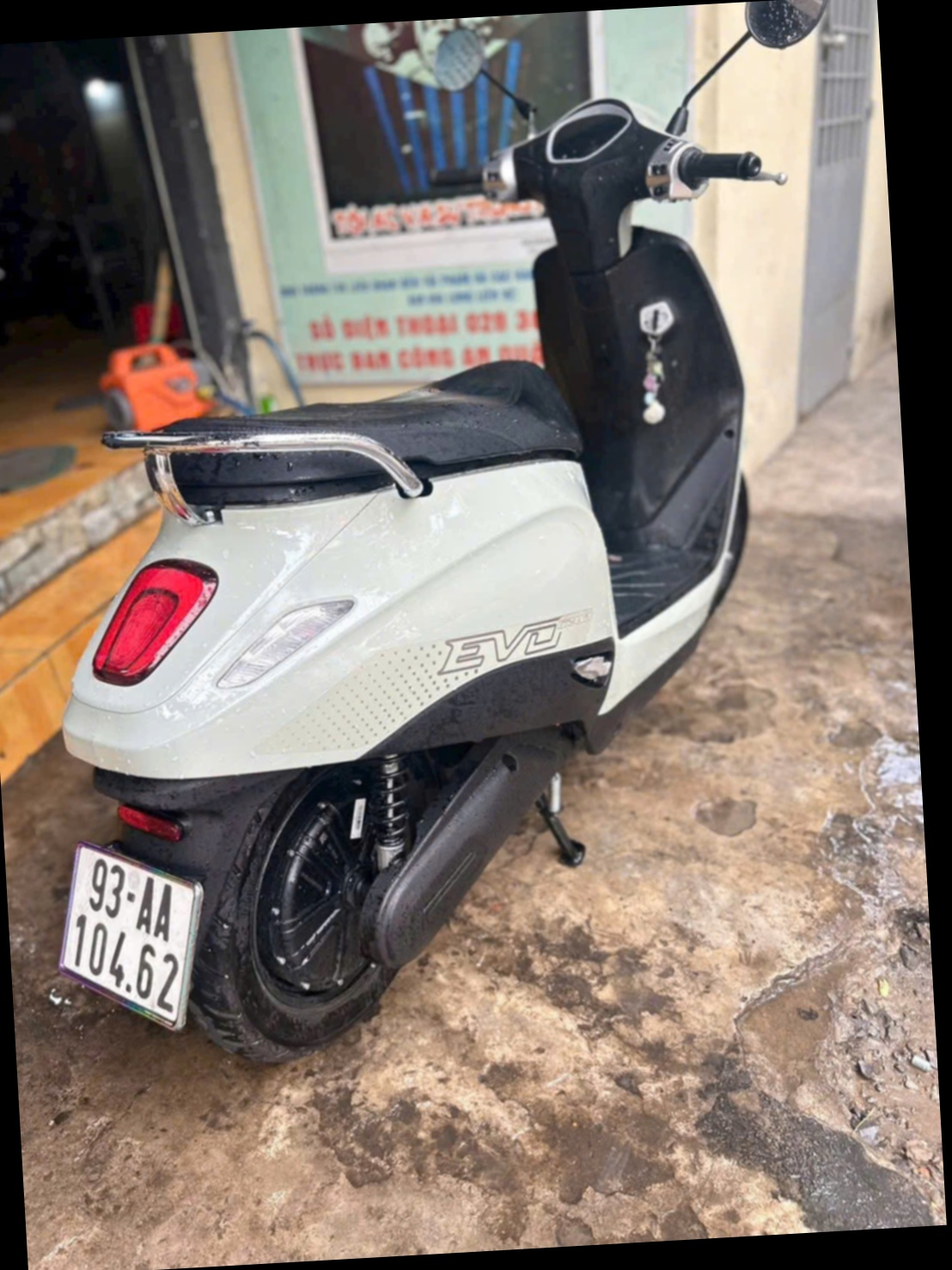Bien-so: (54, 788, 207, 996)
